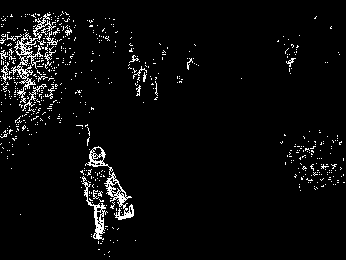person: (83, 145, 135, 247)
